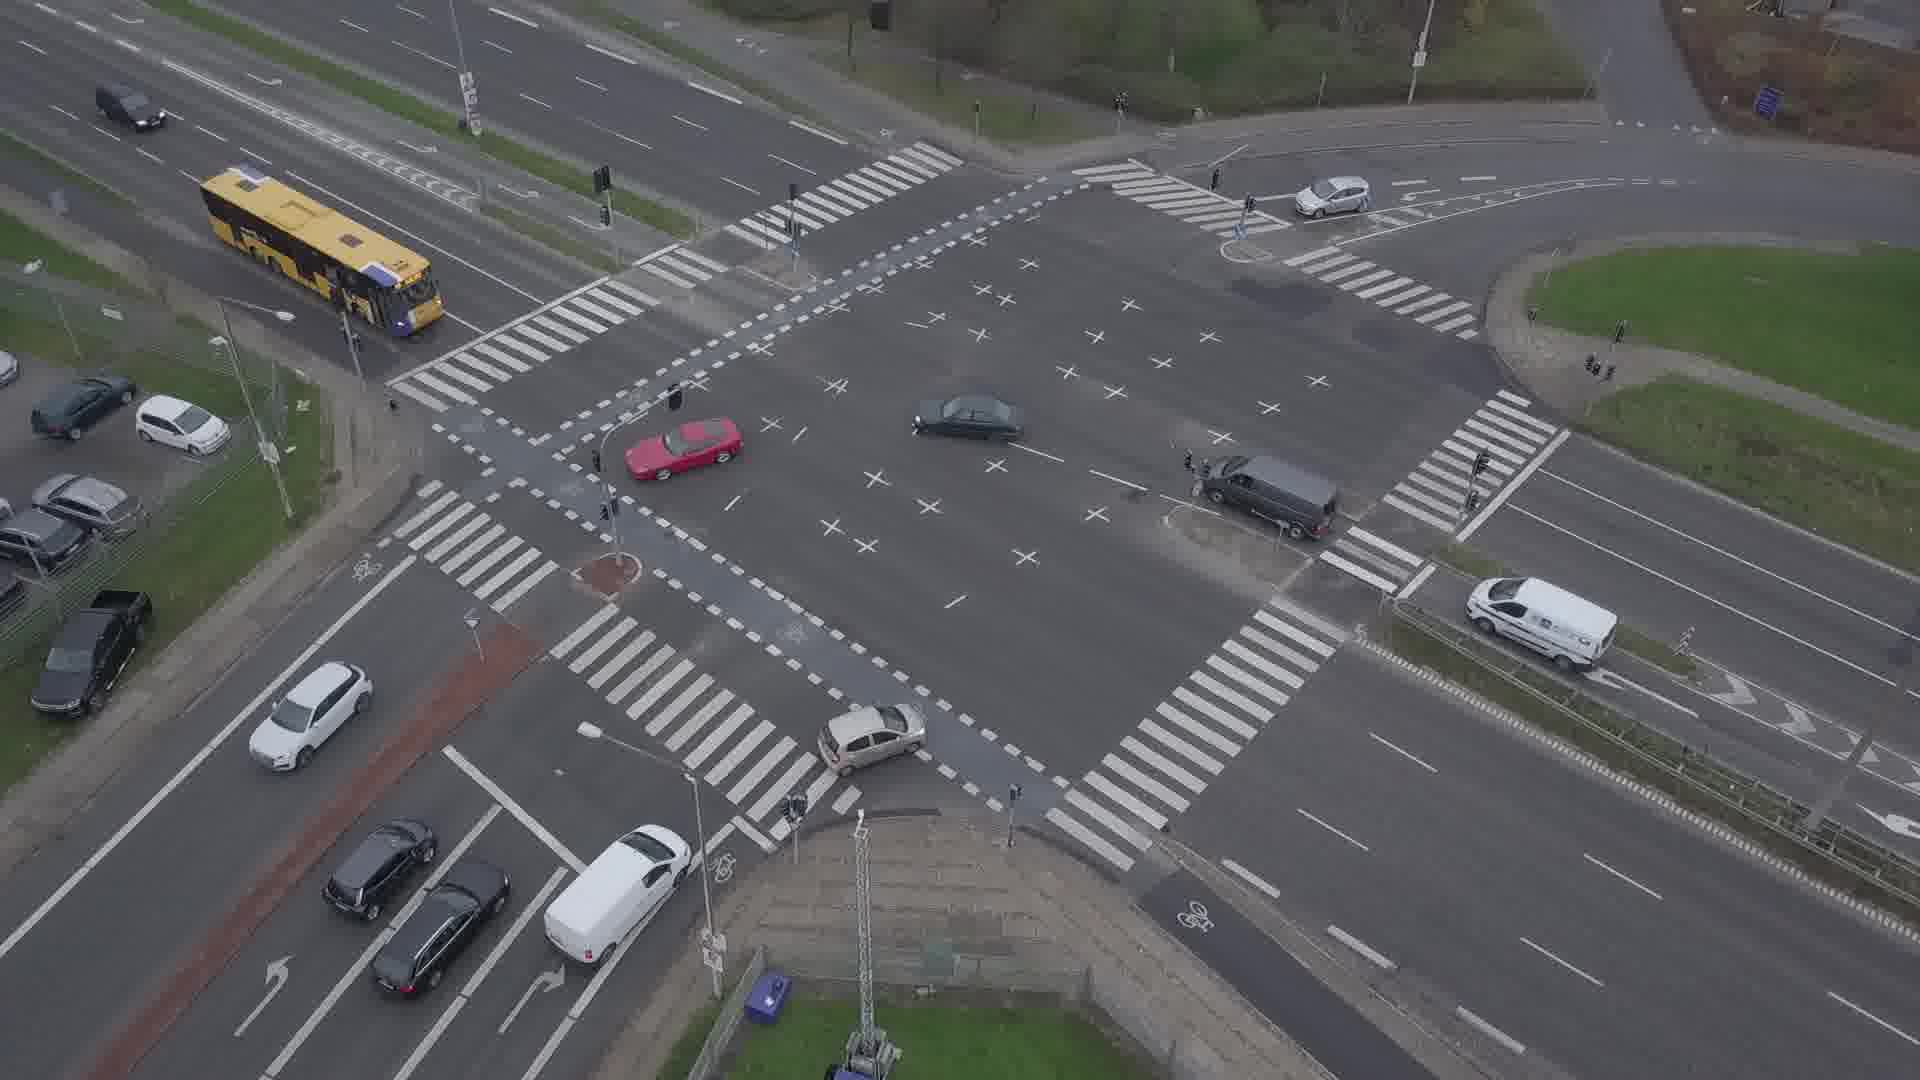bus: (200, 162, 445, 339)
car: (370, 860, 514, 1000), (248, 660, 373, 770), (321, 816, 440, 922), (817, 702, 928, 778), (625, 416, 744, 482), (912, 396, 1022, 442), (96, 83, 169, 134), (1293, 175, 1371, 218)
lorry: (542, 821, 692, 966), (1465, 576, 1618, 670), (1199, 453, 1339, 542)
